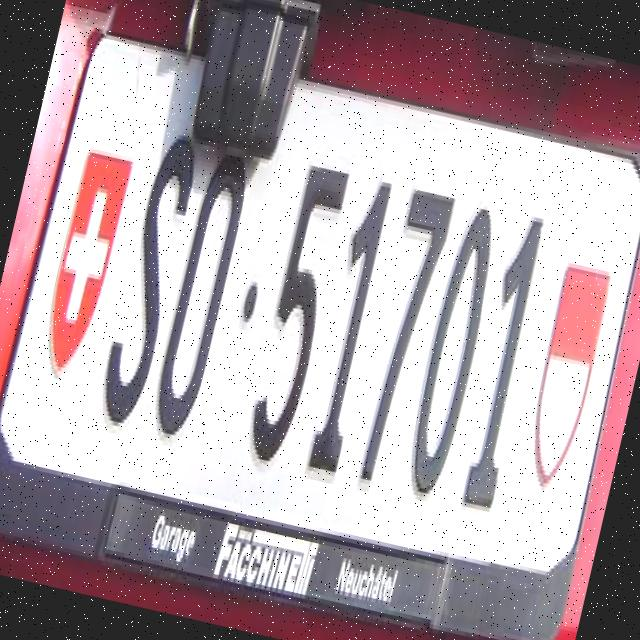Autre: (0, 34, 640, 563)
